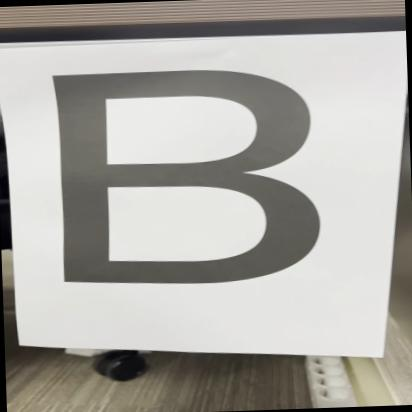seat: (33, 56, 340, 300)
